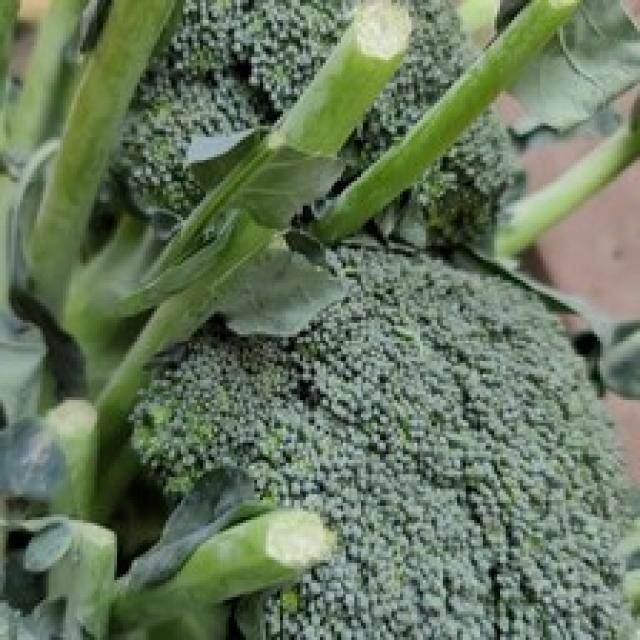Broccoli: (134, 236, 625, 640), (134, 238, 625, 640), (114, 0, 354, 224), (115, 0, 354, 224), (341, 0, 472, 187), (342, 0, 472, 186), (379, 112, 516, 246), (380, 112, 515, 246)
